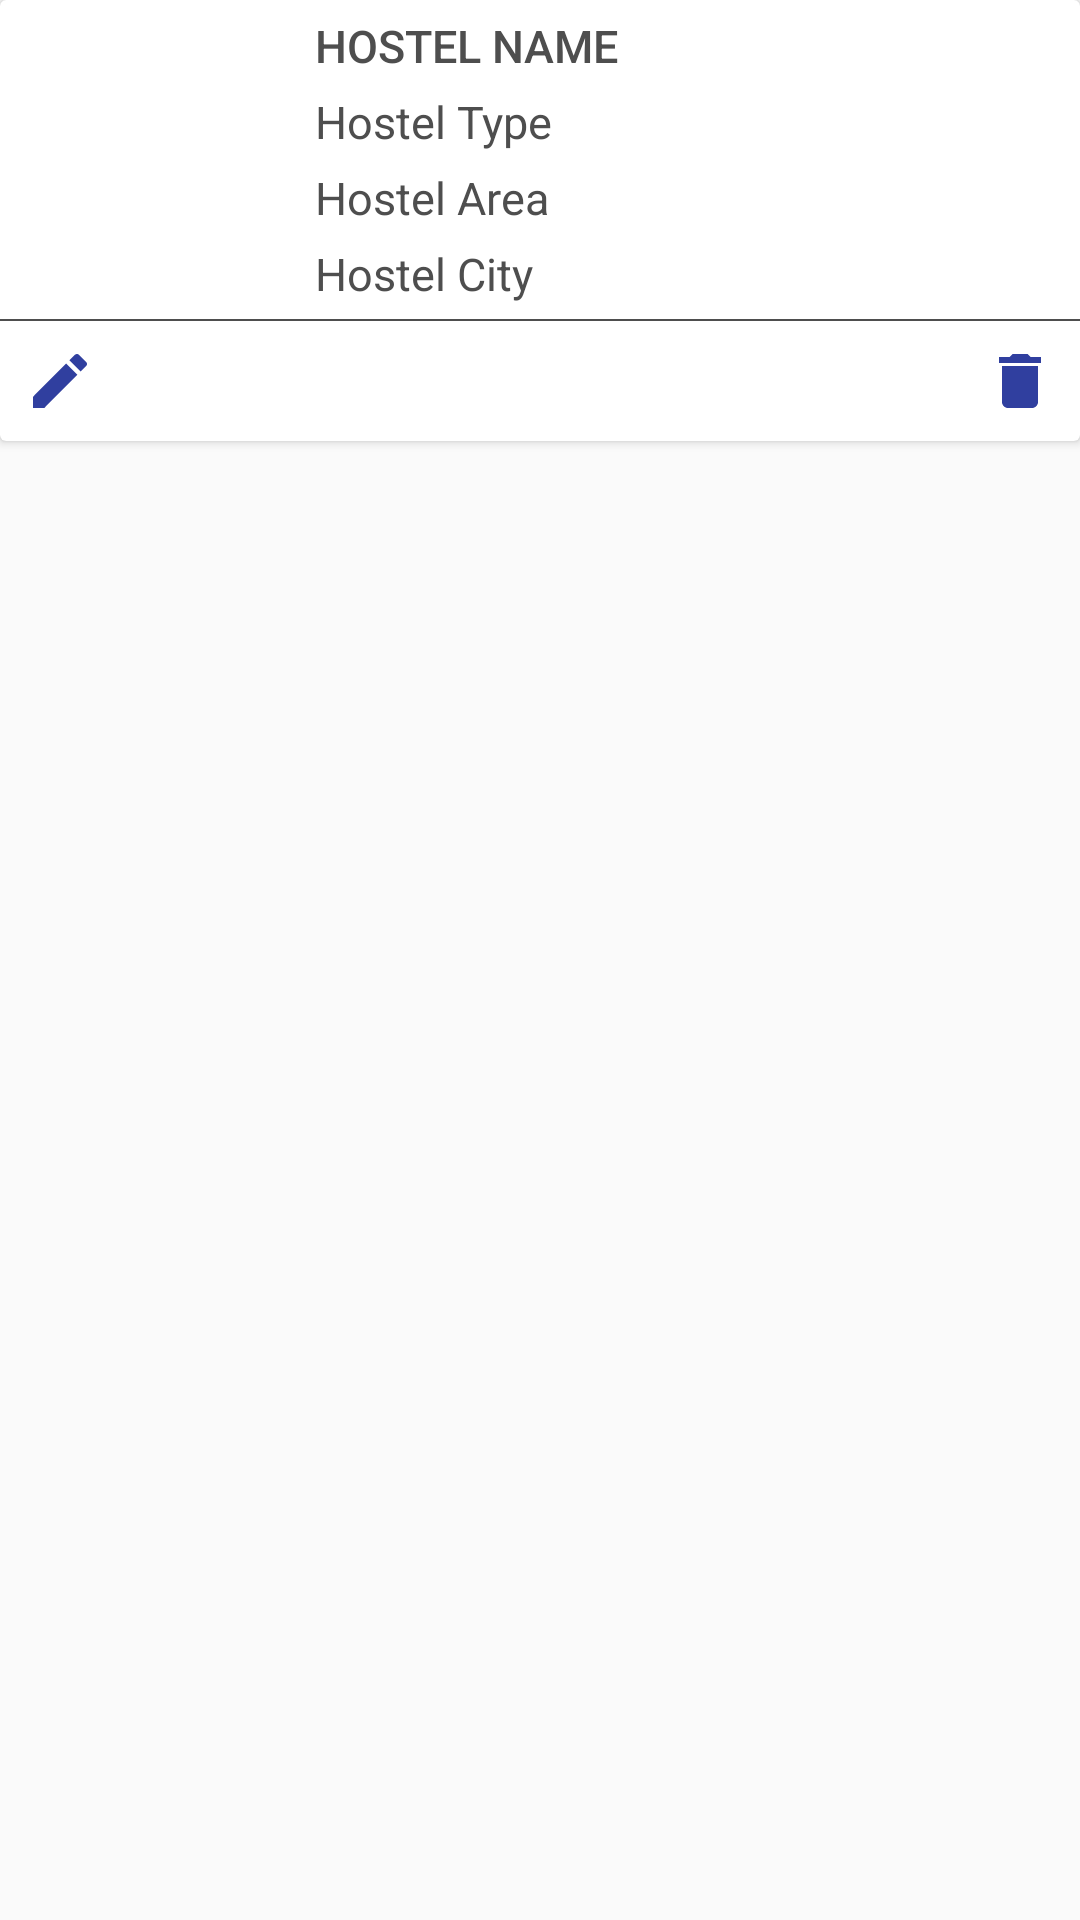

Named icons in this screenshot (1080w x 1920h) and their centers, point (x, y):
delete: point (1020, 381)
edit: point (60, 381)
